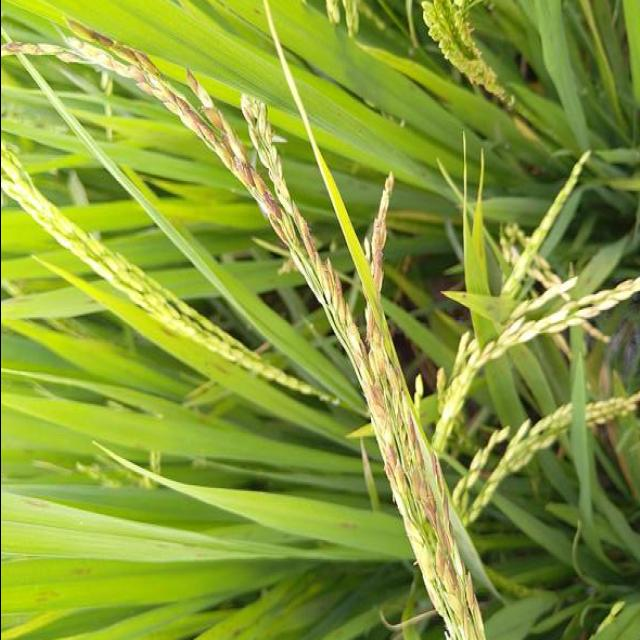Panicle Blight: (66, 19, 213, 140), (462, 568, 486, 640), (431, 453, 450, 523), (435, 540, 457, 595), (329, 264, 347, 330), (419, 479, 438, 536), (370, 217, 384, 292), (408, 416, 425, 469), (299, 213, 316, 265), (386, 363, 407, 404), (234, 155, 257, 190), (0, 42, 56, 56), (384, 442, 402, 485), (436, 515, 453, 560), (201, 106, 227, 135), (368, 381, 386, 421), (215, 133, 232, 174), (261, 190, 281, 222), (366, 300, 379, 343), (351, 340, 369, 371), (315, 250, 328, 291), (410, 466, 422, 502), (291, 201, 298, 232)
